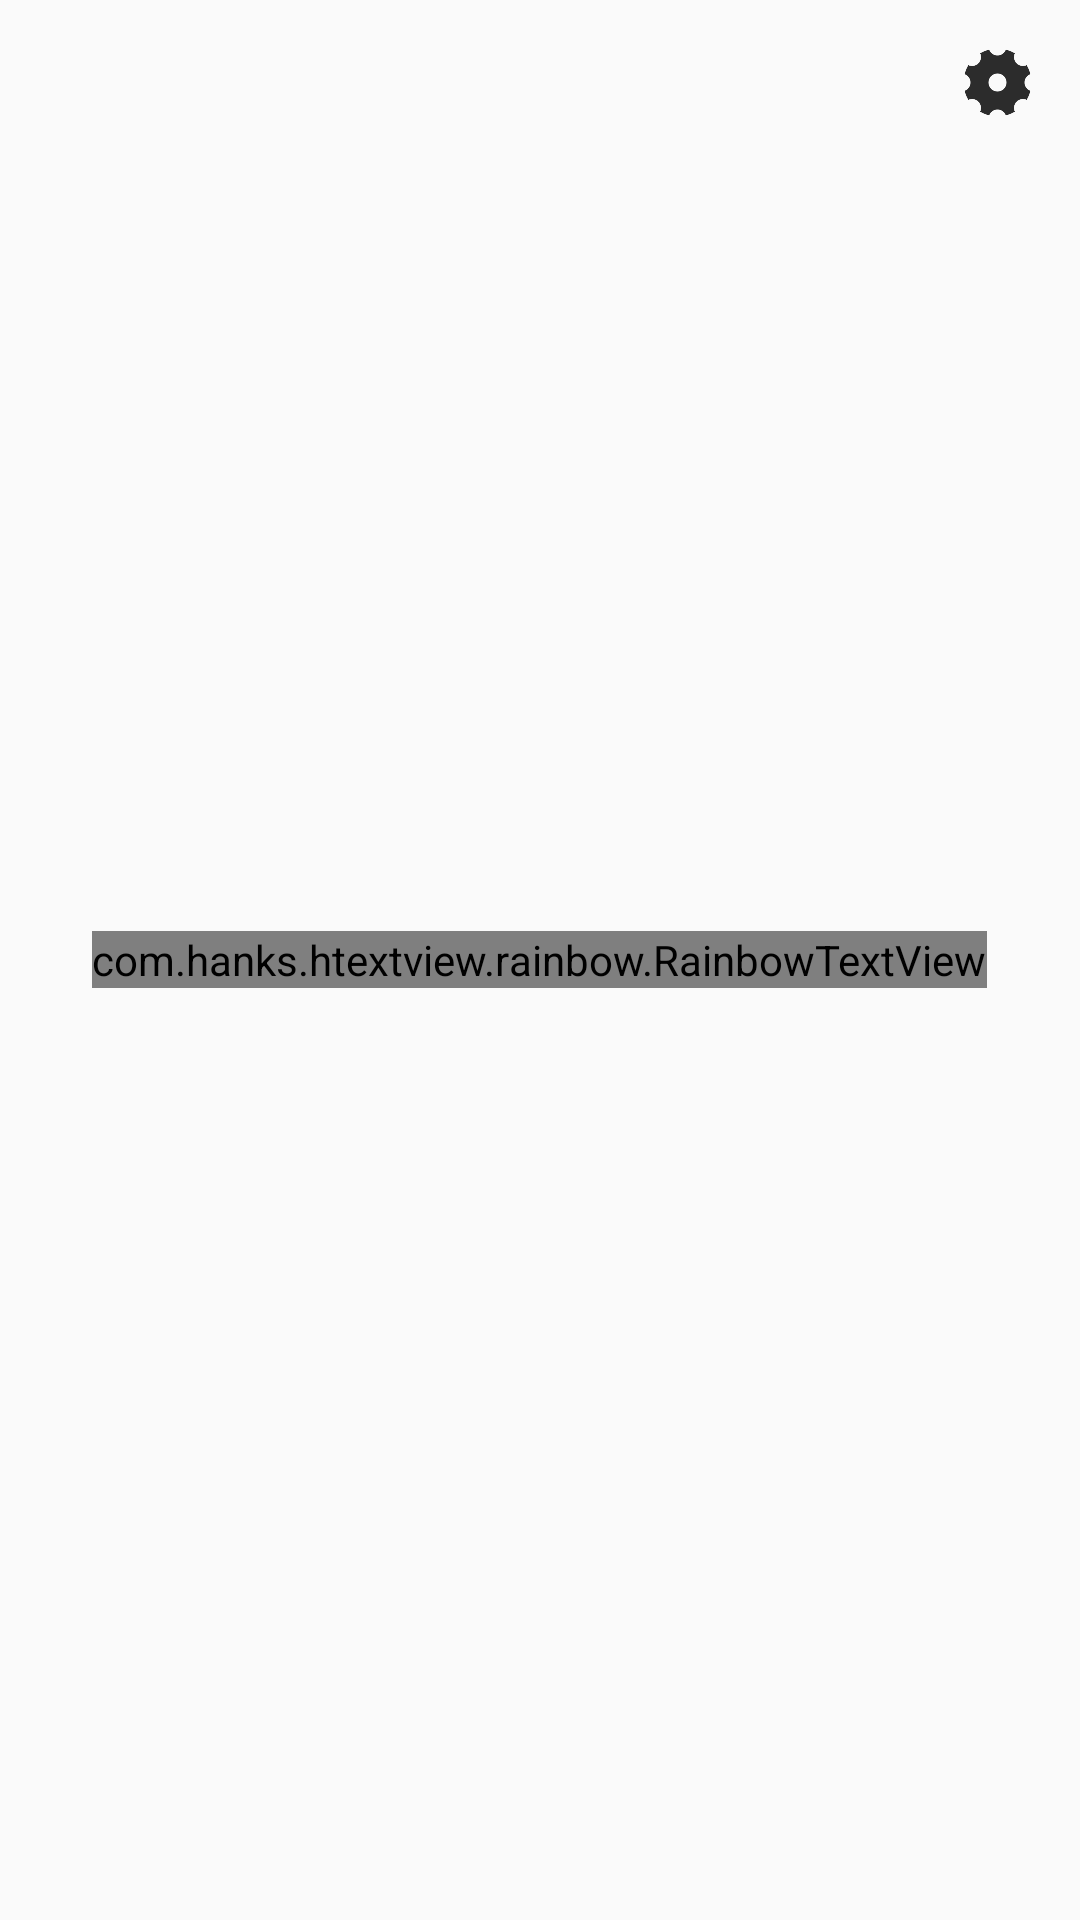

Screen size 1080w x 1920h. Icon name, then its box in pixels as [x1,y1,x2,y2]:
setting: [965,50,1030,115]
